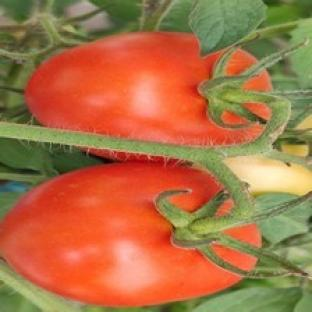Tomato: (0, 163, 240, 306), (26, 33, 263, 146), (225, 156, 311, 194)
